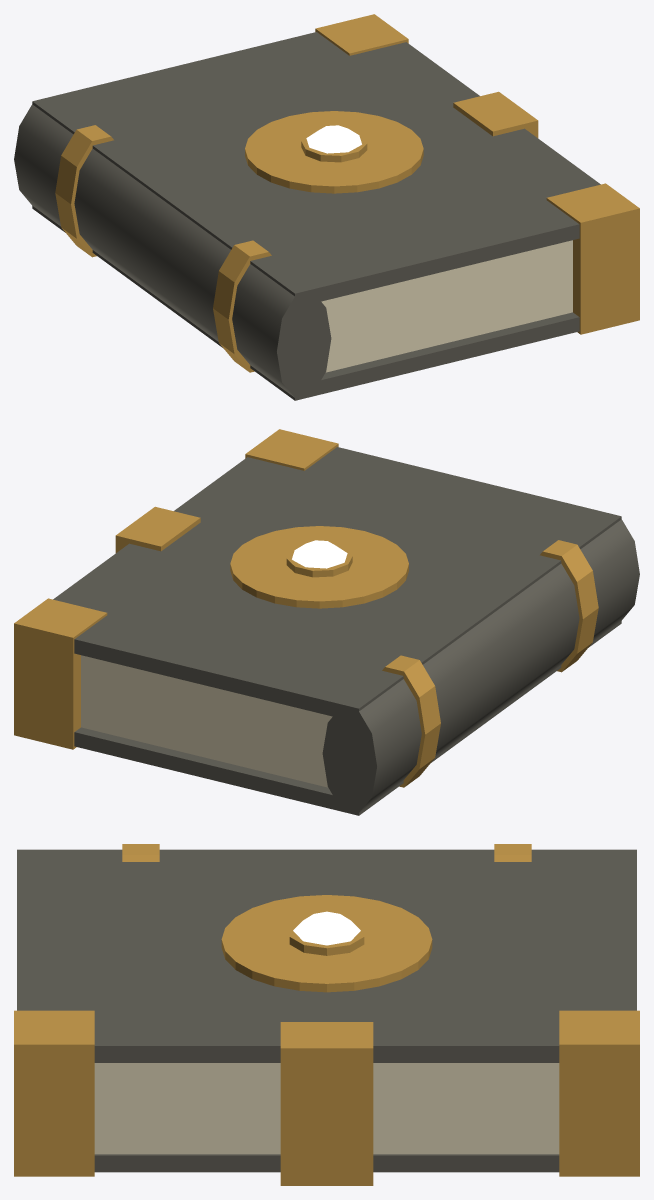
Rendered from tome_pale.glb.
3 renders of one model, top to bottom at view 1: azimuth 30°, elevation 25°; view 2: azimuth 150°, elevation 25°; view 3: azimuth 270°, elevation 25°, orthographic. The views are drawn at different scales.
Visible parts, largest first — view 1: Tome_Pale_Tome_pale, Tome_Pale_Brass, Tome_Pale_Paper, Tome_Pale_Gem_pale; view 2: Tome_Pale_Tome_pale, Tome_Pale_Brass, Tome_Pale_Paper, Tome_Pale_Gem_pale; view 3: Tome_Pale_Tome_pale, Tome_Pale_Brass, Tome_Pale_Paper, Tome_Pale_Gem_pale.
Boxes of the visible parts, x1,y1,x2,y2 form: Tome_Pale_Tome_pale: (14, 32, 600, 400); Tome_Pale_Brass: (55, 14, 639, 372); Tome_Pale_Paper: (321, 240, 572, 372); Tome_Pale_Gem_pale: (306, 125, 361, 153); Tome_Pale_Tome_pale: (53, 447, 639, 815); Tome_Pale_Brass: (14, 429, 598, 787); Tome_Pale_Paper: (81, 655, 332, 787); Tome_Pale_Gem_pale: (292, 540, 347, 568); Tome_Pale_Tome_pale: (17, 849, 636, 1172); Tome_Pale_Brass: (14, 844, 639, 1185); Tome_Pale_Paper: (94, 1063, 559, 1154); Tome_Pale_Gem_pale: (293, 911, 360, 945).
Size of the model in its own units: 0.1655 by 0.0571 by 0.202.
